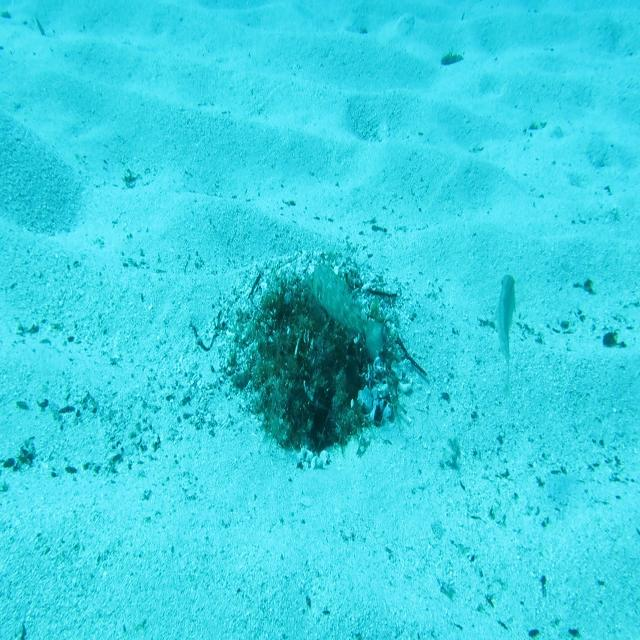INSF: (305, 262, 388, 367)
core_nest: (288, 298, 340, 337)
female: (494, 273, 518, 400)
nest: (209, 242, 418, 481)
vegetation: (439, 49, 464, 69)
